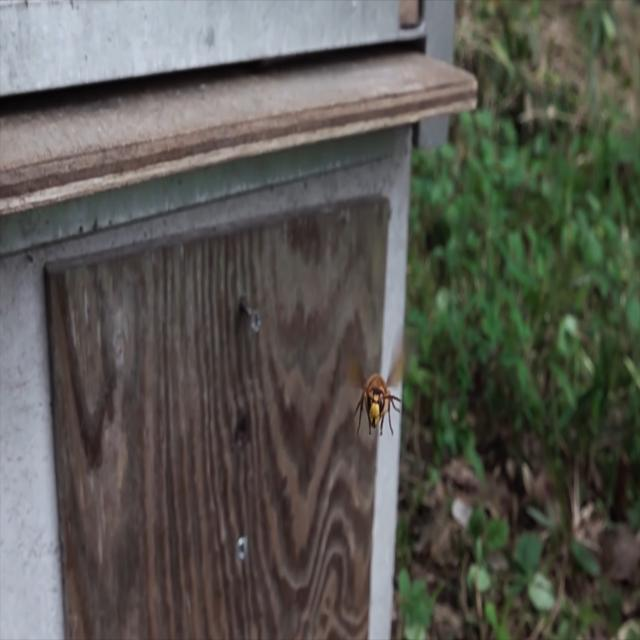Hornets: (349, 371, 404, 438)
